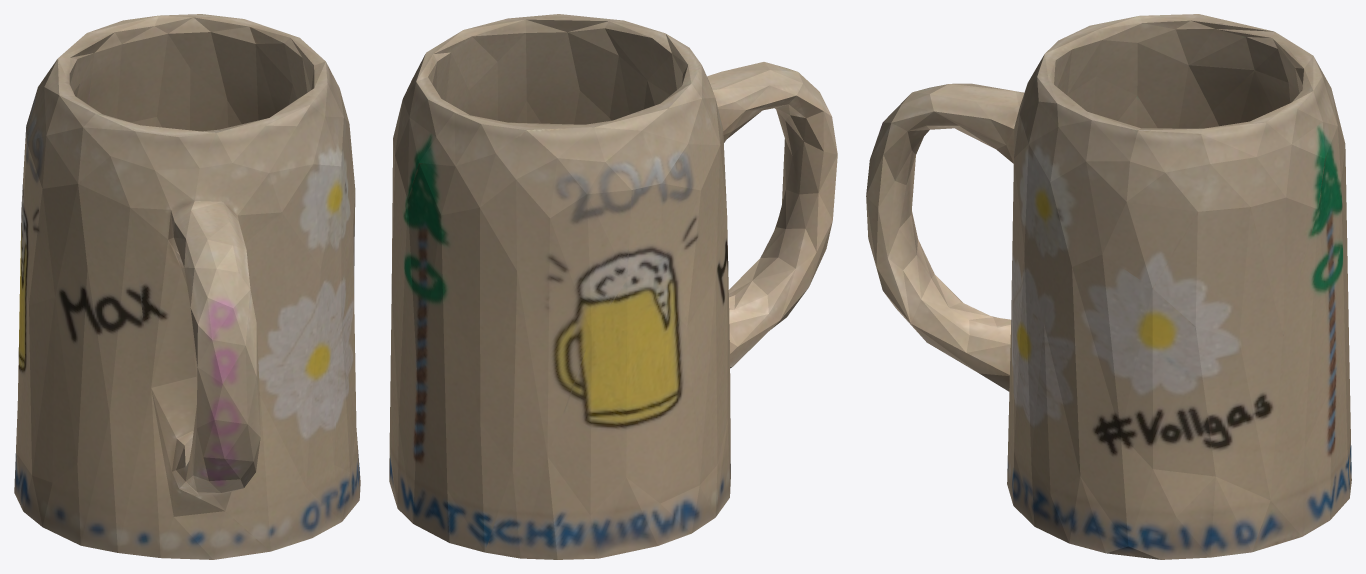
File: DB2B943A-003A-F046-BD4C-97FCBC06D38A_512.glb
3 renders of one model, left to right at view 1: azimuth 30°, elevation 25°; view 2: azimuth 150°, elevation 25°; view 3: azimuth 270°, elevation 25°, orthographic.
Visible parts, largest first — view 1: Krug Bier_0.8k_0.5k; view 2: Krug Bier_0.8k_0.5k; view 3: Krug Bier_0.8k_0.5k.
Part boxes in pixels (left/top/right/bottom): Krug Bier_0.8k_0.5k: left=14, top=14, right=360, bottom=559; Krug Bier_0.8k_0.5k: left=389, top=14, right=837, bottom=559; Krug Bier_0.8k_0.5k: left=866, top=14, right=1351, bottom=559.
Size of the model in its own units: 0.0992 by 0.1331 by 0.1399.
1 material, 1 textured.
